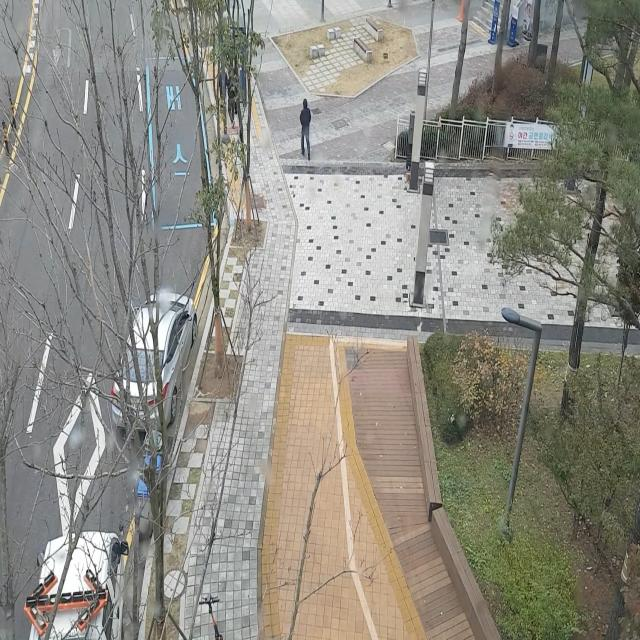Car: (96, 271, 208, 440), (7, 509, 141, 640)
